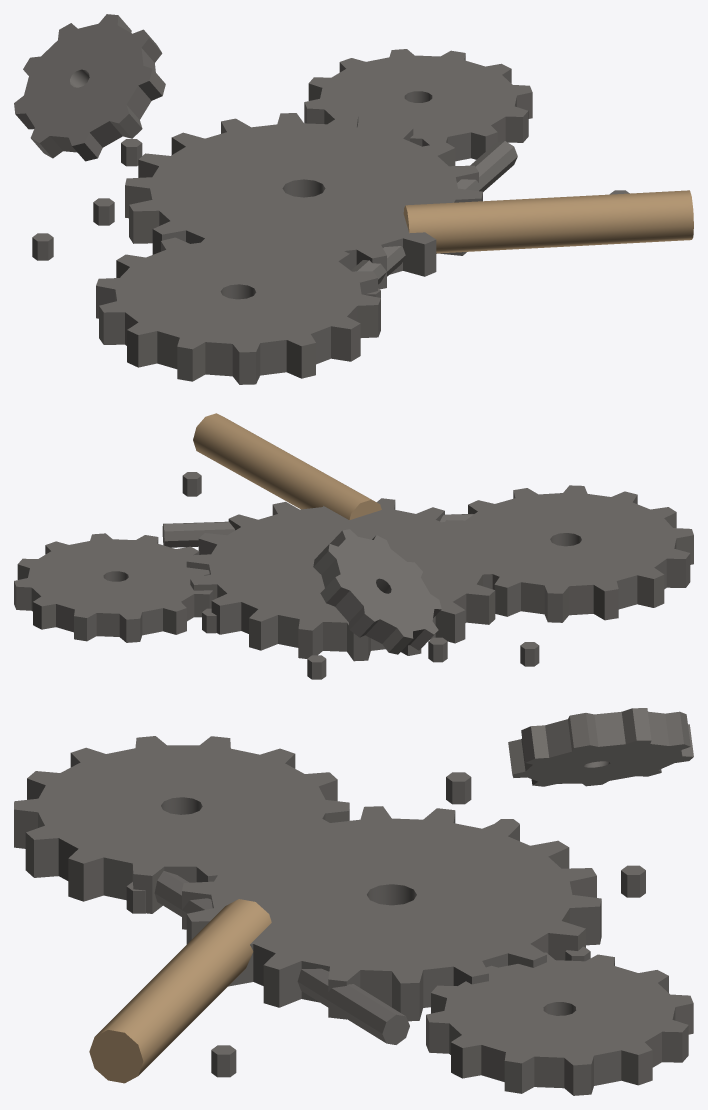
The model's file is mechanical-parts-v01.glb.
The picture shows the model from 3 angles, top to bottom: view 1: azimuth 30°, elevation 25°; view 2: azimuth 150°, elevation 25°; view 3: azimuth 270°, elevation 25°; orthographic projection. The views are drawn at different scales.
Visible parts, largest first — view 1: mechanical-parts; view 2: mechanical-parts; view 3: mechanical-parts.
Part boxes in pixels (x1=…): mechanical-parts: x1=14, y1=14, x2=693, y2=384; mechanical-parts: x1=14, y1=413, x2=693, y2=679; mechanical-parts: x1=14, y1=708, x2=693, y2=1095.
Size of the model in its own units: 1.81 by 0.4652 by 1.62.
